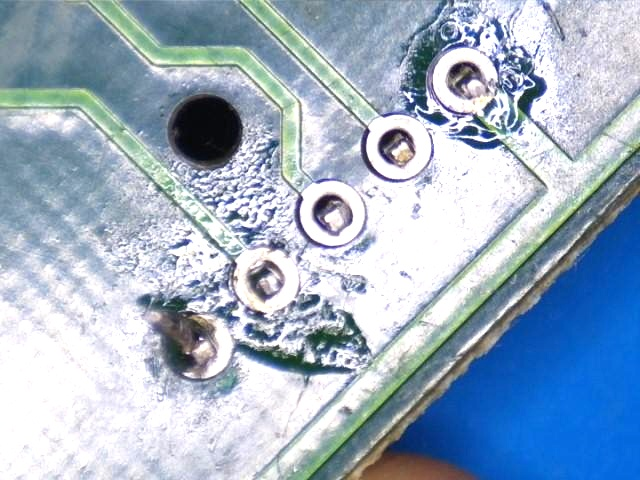pcb_defect: (167, 314, 233, 379), (233, 249, 299, 311)
